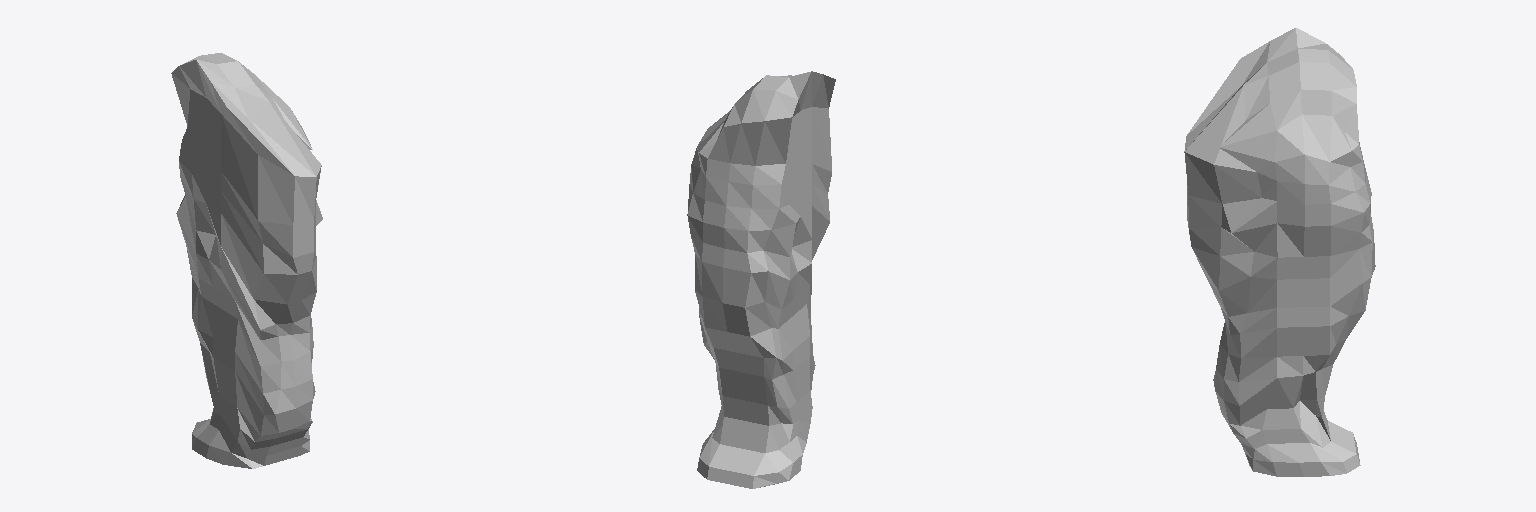
Rendered from lbl.obj.
3 views of the same model, side by side, from view 1: azimuth 30°, elevation 25°; view 2: azimuth 150°, elevation 25°; view 3: azimuth 270°, elevation 25° (orthographic).
Parts seen in each view (by area): view 1: polar_lb:l_b_leg group; view 2: polar_lb:l_b_leg group; view 3: polar_lb:l_b_leg group.
Part boxes in pixels (x1,y1,x2,y2): polar_lb:l_b_leg group: (171, 53, 322, 468); polar_lb:l_b_leg group: (687, 71, 835, 488); polar_lb:l_b_leg group: (1184, 28, 1375, 476).
Bounding box in the file's own units: 221 × 787 × 335.